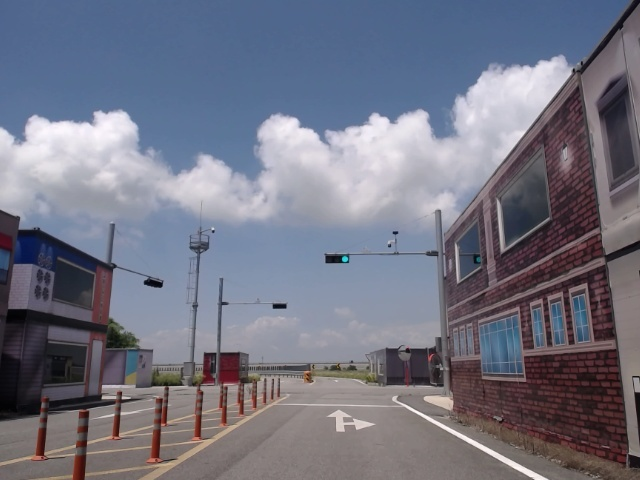green_3: (325, 255, 348, 264)
